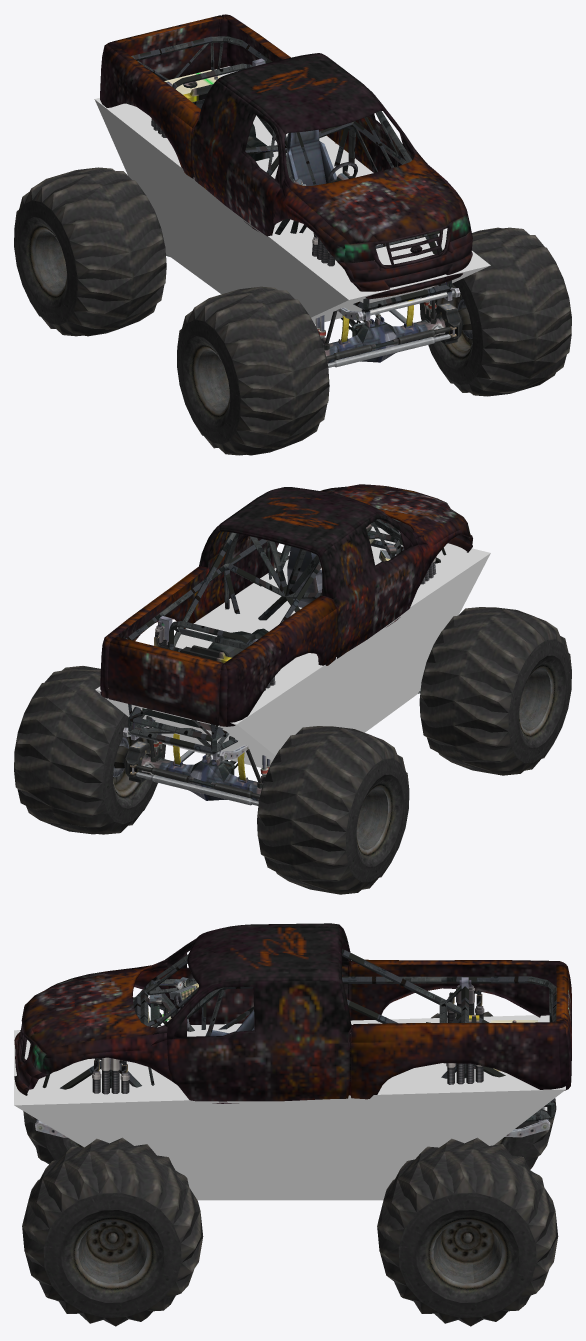
Rendered from monsterTruck1.fbx.
The picture shows the model from 3 angles, top to bottom: view 1: azimuth 30°, elevation 25°; view 2: azimuth 150°, elevation 25°; view 3: azimuth 270°, elevation 25°; orthographic projection. The views are drawn at different scales.
Visible parts, largest first — view 1: MonsterTruck_skin, hidden_convexhull_1, fr_tire, rr_tire, MonsterTruck, fl_tire; view 2: MonsterTruck_skin, hidden_convexhull_1, rr_tire, fr_tire, MonsterTruck, rl_tire; view 3: MonsterTruck_skin, hidden_convexhull_1, fl_tire, rl_tire, MonsterTruck, rr_tire, fr_tire.
Part boxes in pixels (x1,y1,x2,y2): MonsterTruck_skin: [100, 14, 472, 298]; hidden_convexhull_1: [94, 66, 490, 324]; fr_tire: [177, 286, 329, 455]; rr_tire: [14, 167, 166, 336]; MonsterTruck: [131, 36, 472, 367]; fl_tire: [419, 227, 571, 396]; MonsterTruck_skin: [100, 484, 472, 726]; hidden_convexhull_1: [95, 526, 490, 767]; rr_tire: [257, 726, 409, 894]; fr_tire: [419, 607, 571, 775]; MonsterTruck: [113, 518, 446, 805]; rl_tire: [14, 666, 165, 834]; MonsterTruck_skin: [14, 923, 571, 1103]; hidden_convexhull_1: [14, 1015, 565, 1200]; fl_tire: [22, 1137, 203, 1326]; rl_tire: [377, 1137, 558, 1326]; MonsterTruck: [35, 948, 556, 1137]; rr_tire: [431, 1011, 556, 1169]; fr_tire: [23, 1024, 161, 1163].
Size of the model in its own units: 408 by 541 by 324.
Materials: 3 (3 with a texture image).
